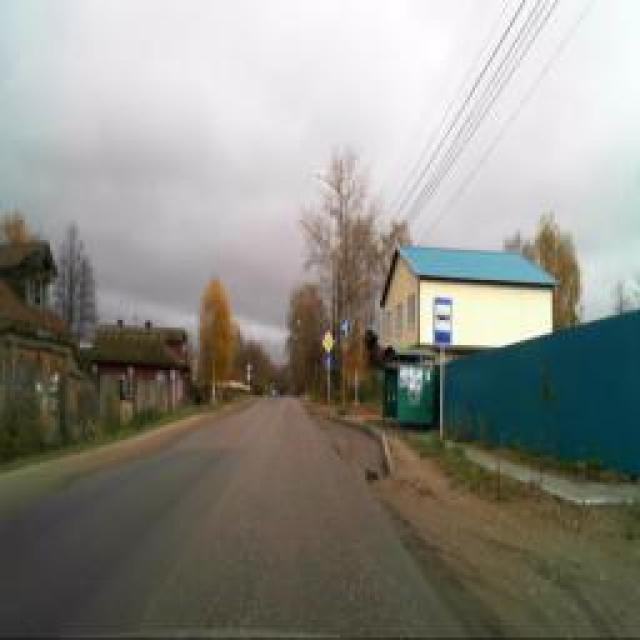sign: (340, 319, 350, 339), (324, 352, 334, 370)
